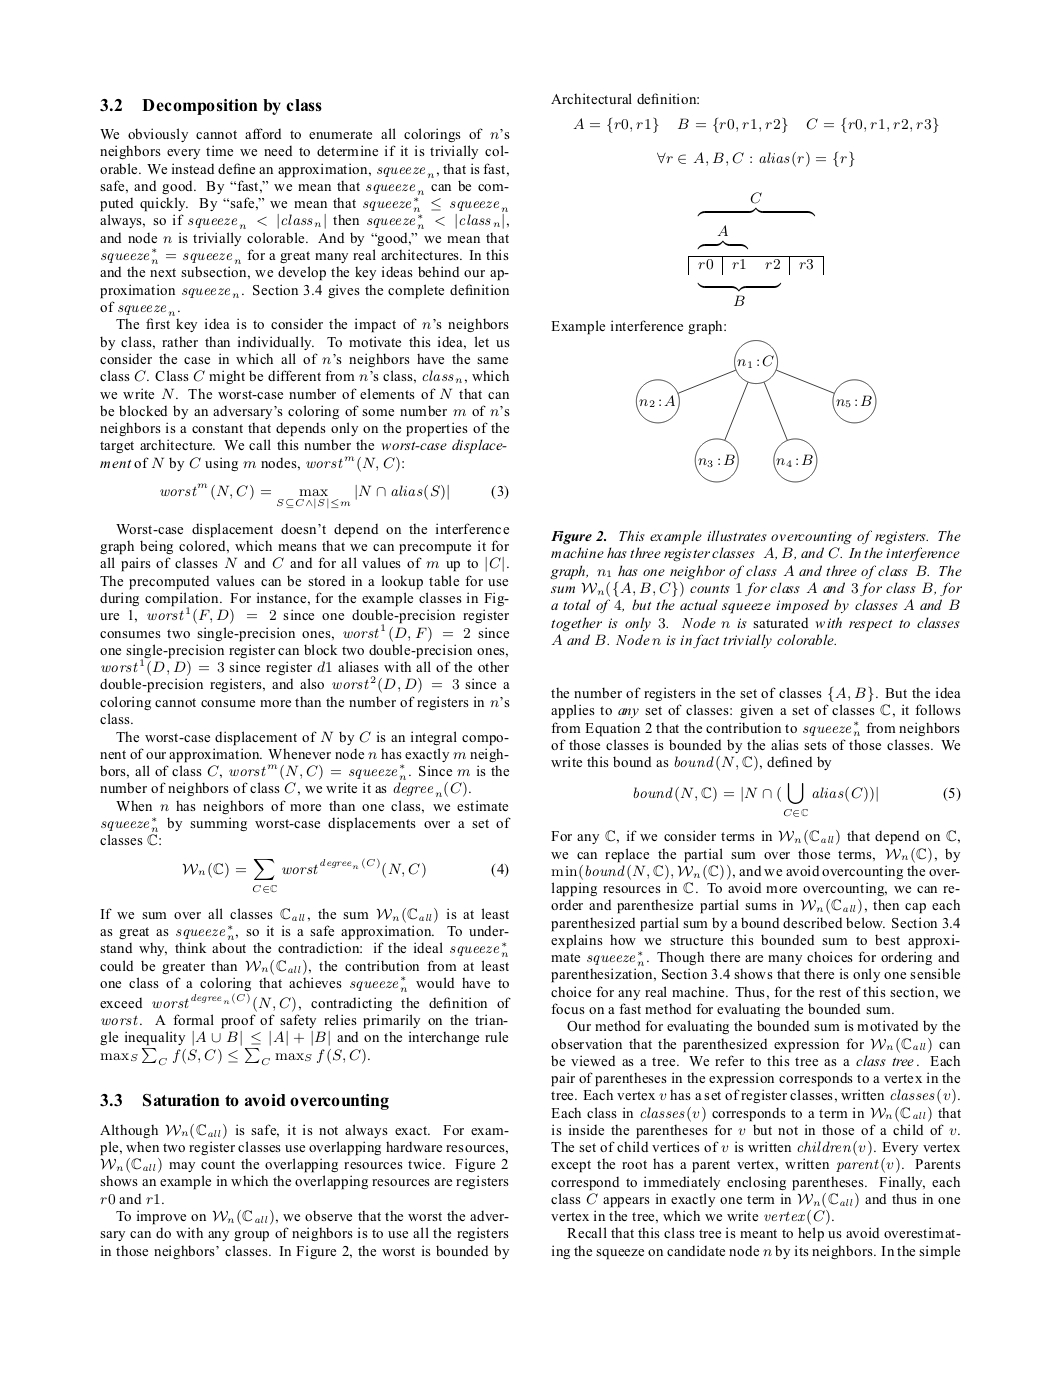figure: (635, 339, 876, 483), (688, 192, 822, 305)
formula: (182, 858, 508, 892), (633, 783, 960, 816), (160, 483, 508, 509), (573, 116, 938, 133), (658, 150, 854, 167)
